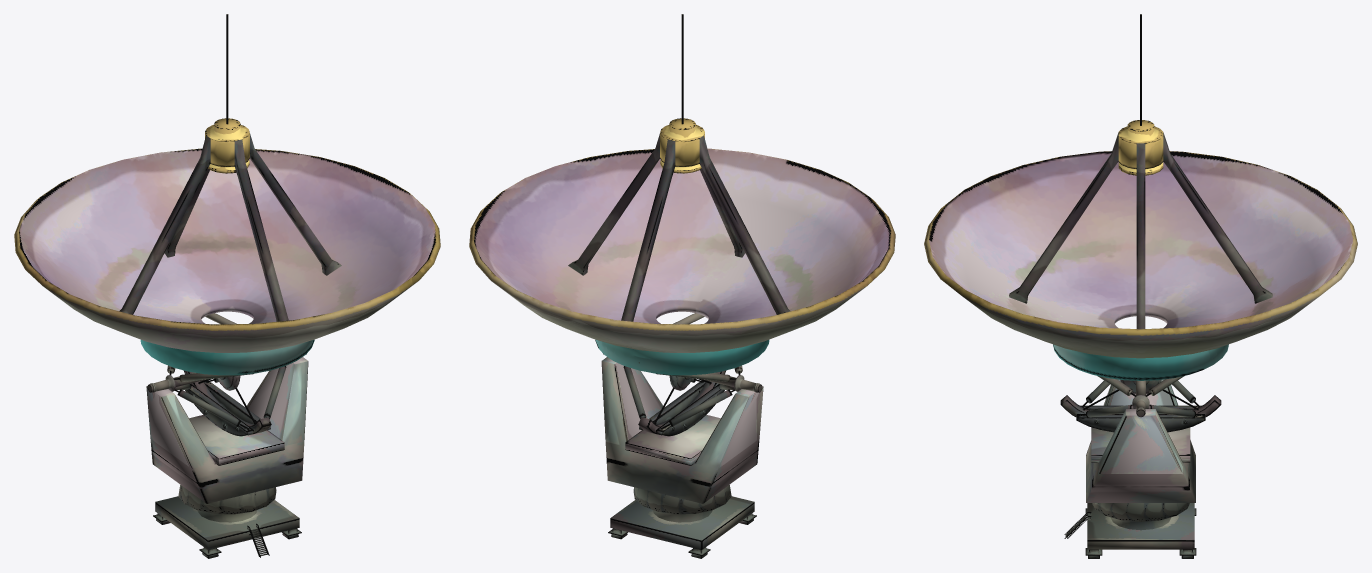
The model's file is BigAntennaLow.fbx.
The picture shows the model from 3 angles, left to right: view 1: azimuth 30°, elevation 25°; view 2: azimuth 150°, elevation 25°; view 3: azimuth 270°, elevation 25°; orthographic projection.
Parts seen in each view (by area): view 1: Antenna_low, Axis_Support_low, Antenna_Support_Beams_low, Base_low, Antenna_Support_low, Counterweight_Stopper_low, Antenna_Pointer_low, Middle_Part_low, Counterweight_Sides_low, Bottom_Cylinders_low, Axis_low, Top_Cylinders_low; view 2: Antenna_low, Axis_Support_low, Antenna_Support_Beams_low, Base_low, Antenna_Support_low, Counterweight_Stopper_low, Antenna_Pointer_low, Middle_Part_low, Counterweight_Sides_low, Bottom_Cylinders_low, Axis_low, Top_Cylinders_low; view 3: Antenna_low, Axis_Support_low, Antenna_Support_Beams_low, Antenna_Support_low, Base_low, Antenna_Pointer_low, Middle_Part_low, Counterweight_Sides_low, Bottom_Cylinders_low, Counterweight_Stopper_low, Axis_low, Counterweight_low.
Boxes of the visible parts, <box> form: Antenna_low: <box>14,148,440,352</box>; Axis_Support_low: <box>146,357,308,503</box>; Antenna_Support_Beams_low: <box>119,134,341,321</box>; Base_low: <box>155,496,299,549</box>; Antenna_Support_low: <box>140,339,314,375</box>; Counterweight_Stopper_low: <box>189,415,284,465</box>; Antenna_Pointer_low: <box>205,14,249,173</box>; Middle_Part_low: <box>178,485,276,522</box>; Counterweight_Sides_low: <box>185,380,270,436</box>; Bottom_Cylinders_low: <box>175,366,286,429</box>; Axis_low: <box>147,354,306,392</box>; Top_Cylinders_low: <box>167,313,253,382</box>; Antenna_low: <box>469,148,895,352</box>; Axis_Support_low: <box>601,357,763,503</box>; Antenna_Support_Beams_low: <box>568,134,790,321</box>; Base_low: <box>610,496,754,549</box>; Antenna_Support_low: <box>595,339,769,375</box>; Counterweight_Stopper_low: <box>625,415,720,465</box>; Antenna_Pointer_low: <box>660,14,704,173</box>; Middle_Part_low: <box>633,485,731,522</box>; Counterweight_Sides_low: <box>639,380,724,436</box>; Bottom_Cylinders_low: <box>623,366,734,429</box>; Axis_low: <box>603,354,762,392</box>; Top_Cylinders_low: <box>656,313,742,382</box>; Antenna_low: <box>924,151,1357,358</box>; Axis_Support_low: <box>1086,379,1195,502</box>; Antenna_Support_Beams_low: <box>1009,132,1272,329</box>; Antenna_Support_low: <box>1053,344,1228,380</box>; Base_low: <box>1087,503,1194,549</box>; Antenna_Pointer_low: <box>1118,14,1163,175</box>; Middle_Part_low: <box>1092,503,1189,530</box>; Counterweight_Sides_low: <box>1076,405,1205,432</box>; Bottom_Cylinders_low: <box>1080,380,1201,417</box>; Counterweight_Stopper_low: <box>1091,427,1190,462</box>; Axis_low: <box>1120,380,1161,417</box>; Counterweight_low: <box>1060,395,1221,416</box>.
Bounding box in the file's own units: 40.41 × 53.7 × 40.42.
